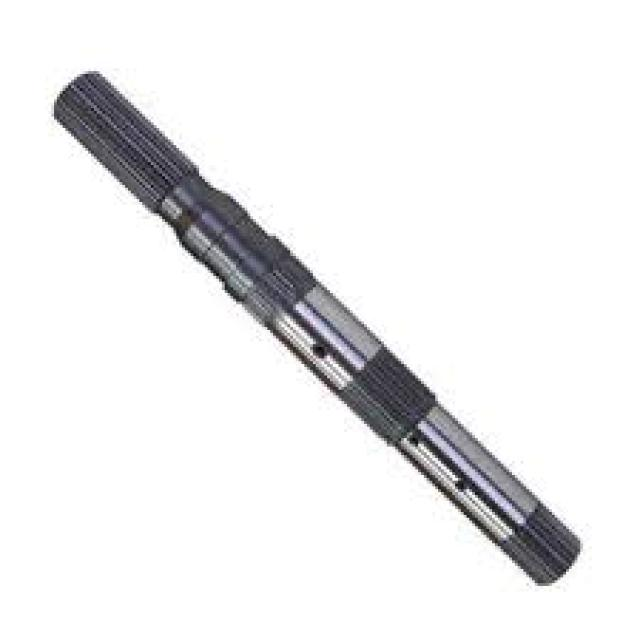Turning: (9, 40, 616, 640)
